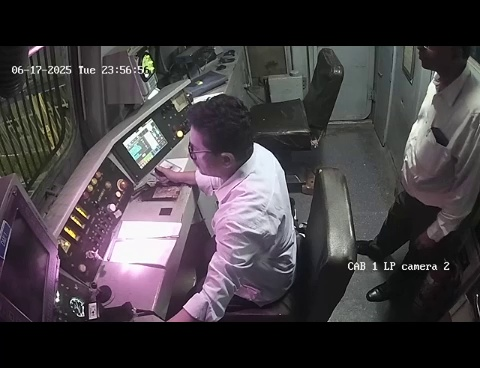horn_inactive: (81, 272, 123, 310)
